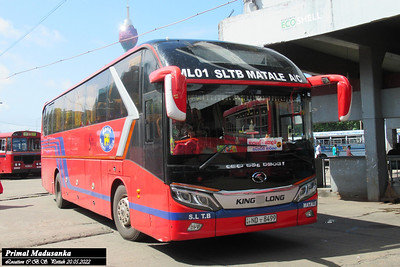bus: (39, 38, 316, 245), (1, 131, 41, 179)
